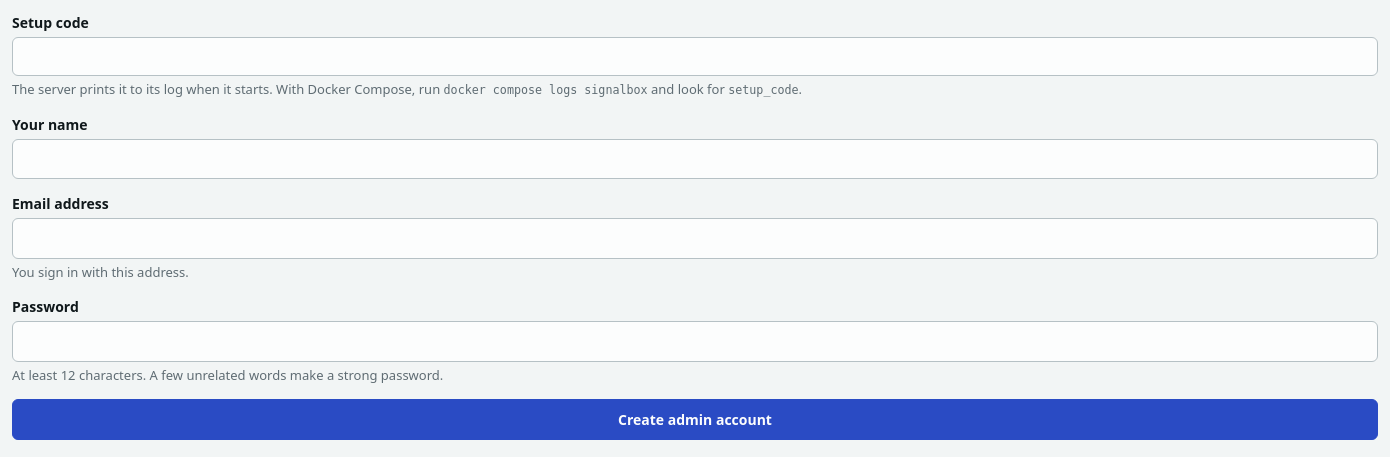
Test: SetupForm › counts down to the minimum password length
The width and height of the screenshot is (1390, 457).
In the password field labelled "Password": (695,341) [12,321,1378,362], type "short"
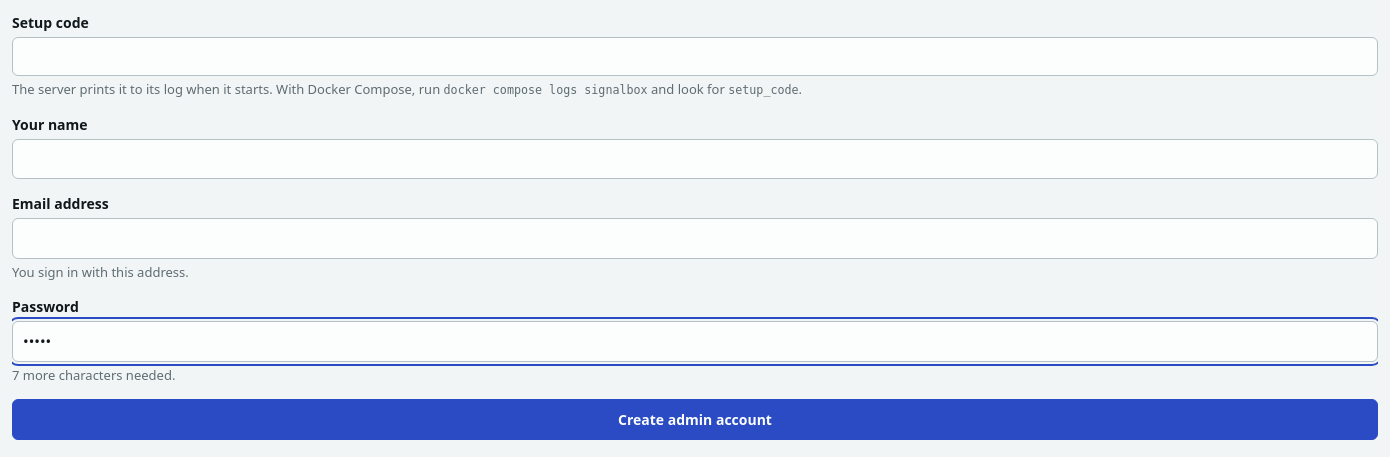
Result: the text "7 more characters needed." is shown at [12,366,175,384]
